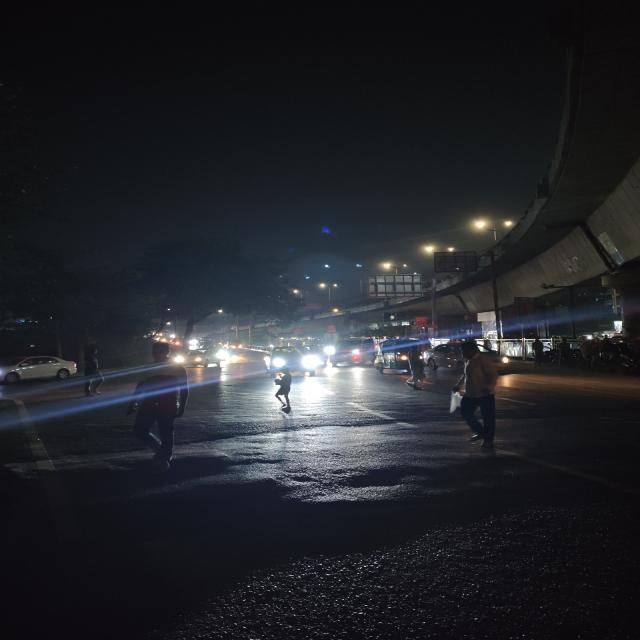car: (0, 352, 78, 388), (263, 344, 323, 378), (327, 335, 379, 369), (176, 347, 225, 367)
pedestrian: (123, 343, 198, 472), (448, 343, 516, 451), (266, 370, 302, 420), (78, 344, 106, 398), (396, 349, 428, 389)
